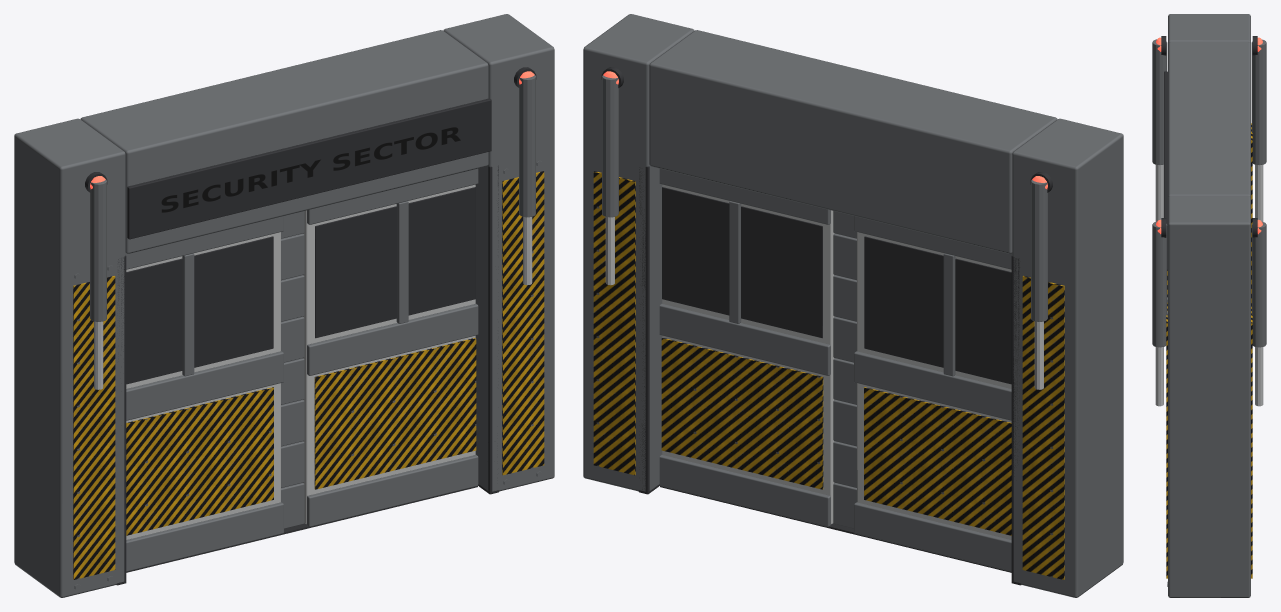
The model's file is security_gate.glb.
3 renders of one model, left to right at view 1: azimuth 30°, elevation 25°; view 2: azimuth 150°, elevation 25°; view 3: azimuth 270°, elevation 25°, orthographic. The views are drawn at different scales.
Parts seen in each view (by area): view 1: security_gate, LeafR, LeafL; view 2: security_gate, LeafR, LeafL; view 3: security_gate.
Part boxes in pixels (x1,y1,x2,y2): security_gate: [14, 14, 554, 597]; LeafR: [281, 168, 478, 526]; LeafL: [125, 216, 304, 571]; security_gate: [583, 14, 1123, 597]; LeafR: [659, 168, 856, 526]; LeafL: [833, 216, 1012, 571]; security_gate: [1152, 14, 1266, 597].
Size of the model in its own units: 6 by 5.01 by 1.38.
Materials: 7 (2 with a texture image).
